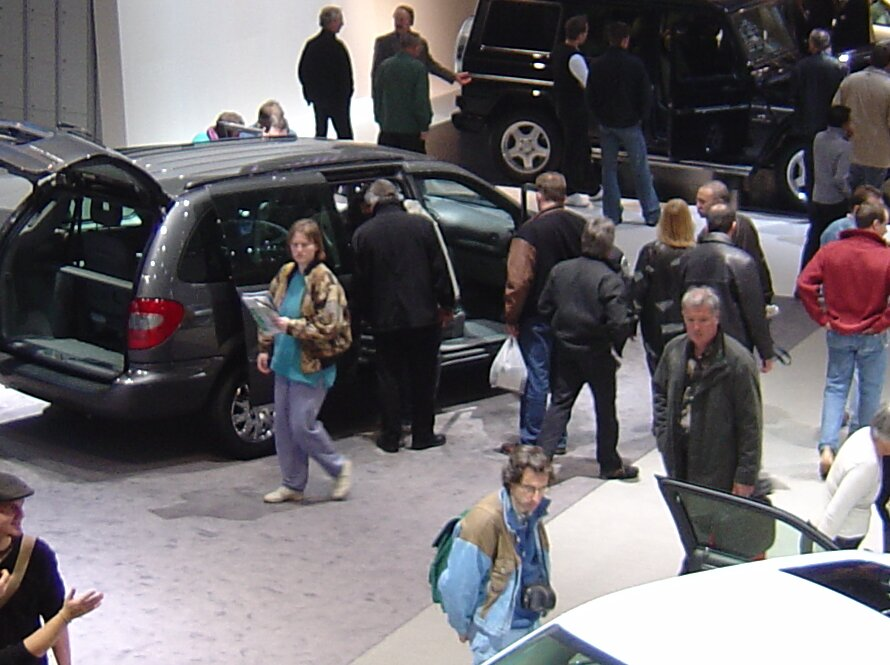person: (353, 176, 471, 456), (257, 217, 370, 509), (649, 282, 782, 530), (541, 209, 654, 493), (454, 446, 569, 651), (810, 196, 890, 452), (294, 2, 370, 136), (376, 34, 439, 151)
